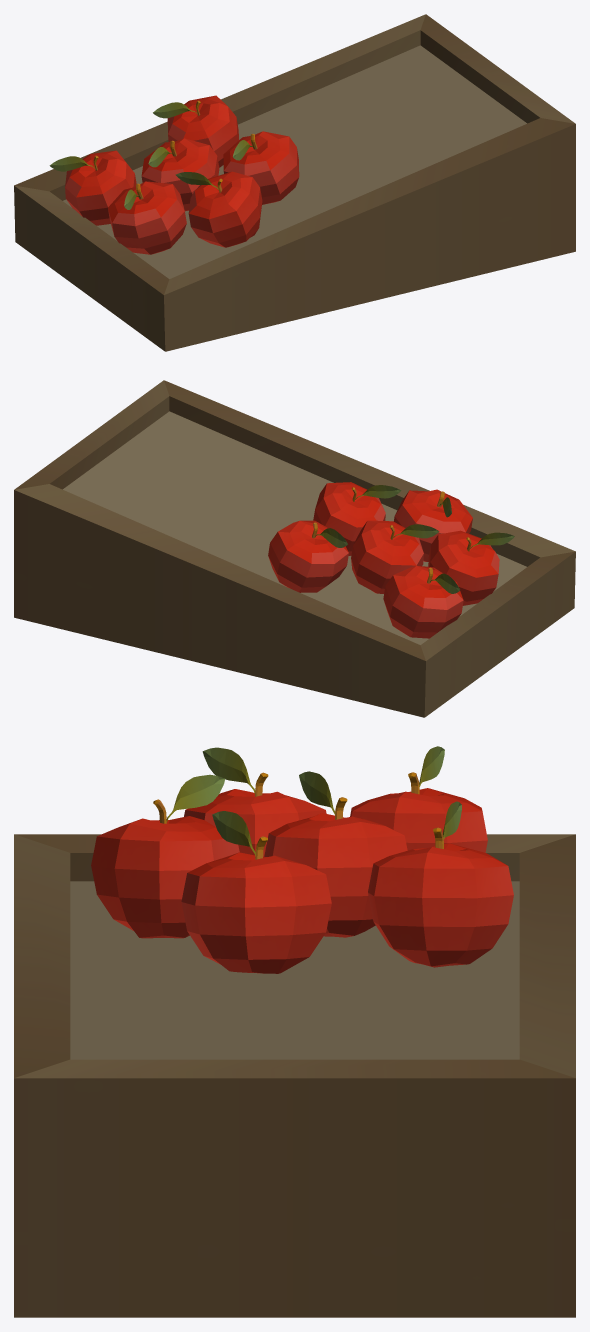
File: Crate_Food_1.fbx
3 renders of one model, top to bottom at view 1: azimuth 30°, elevation 25°; view 2: azimuth 150°, elevation 25°; view 3: azimuth 270°, elevation 25°, orthographic. The views are drawn at different scales.
Parts seen in each view (by area): view 1: polySurface9653; view 2: polySurface9653; view 3: polySurface9653.
Part boxes in pixels (box(x1,y1,x2,y2)): polySurface9653: box(14, 14, 575, 351); polySurface9653: box(14, 380, 575, 717); polySurface9653: box(14, 746, 575, 1317).
Size of the model in its own units: 186 by 57.68 by 117.
